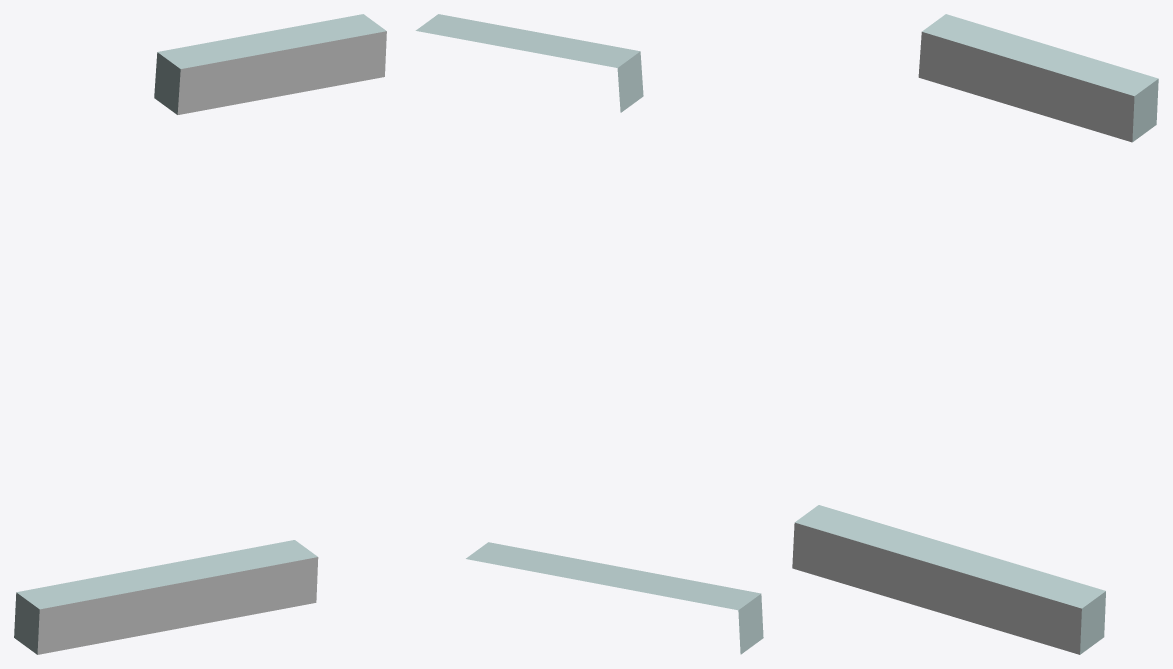
3 views of the same model, side by side, from view 1: azimuth 30°, elevation 25°; view 2: azimuth 150°, elevation 25°; view 3: azimuth 330°, elevation 25° (orthographic). The views are drawn at different scales.
Visible parts, largest first — view 1: 0_0_2_0_2_0_1_3_3; view 2: 0_0_2_0_2_0_1_3_3; view 3: 0_0_2_0_2_0_1_3_3.
Boxes of the visible parts, x1,y1,x2,y2 form: 0_0_2_0_2_0_1_3_3: (14,14,386,654); 0_0_2_0_2_0_1_3_3: (415,14,763,654); 0_0_2_0_2_0_1_3_3: (792,14,1158,654).
Bounding box in the file's own units: 25.16 × 40.61 × 4.13.
